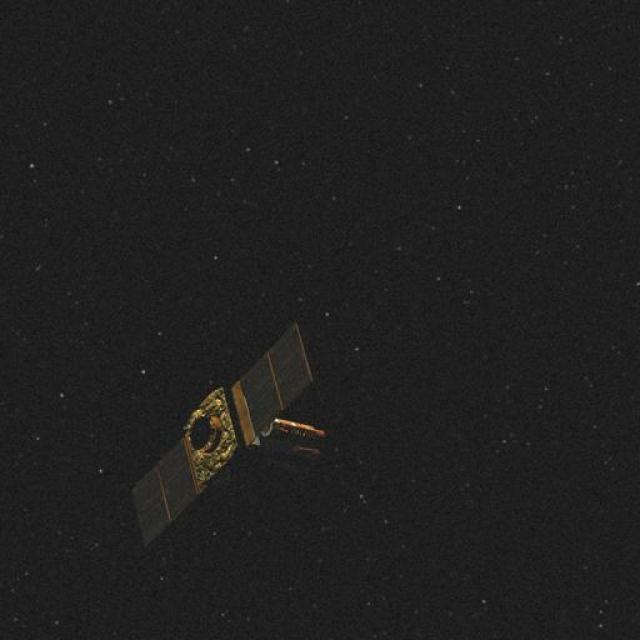soho: (108, 307, 318, 546)
